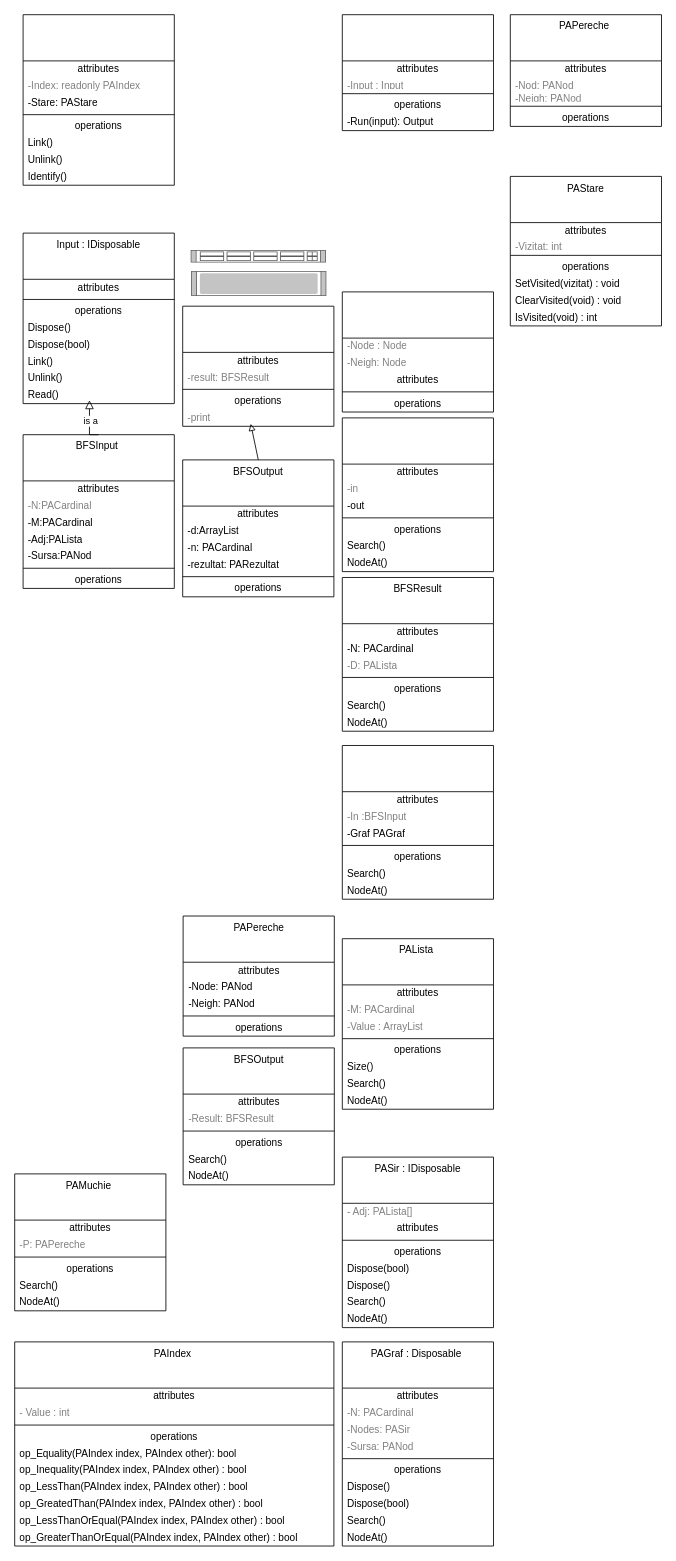
Image size: 676x1561. Some labels were removed from this diagram. The shapes that lost their labels are listed below. From the top down, each one's box as (x1, y1, x2, y2) in pixels, then its label:
(341, 14, 494, 131): Algorithm
(22, 14, 174, 185): PANod
(182, 305, 334, 426): Output
(341, 291, 494, 412): Edge
(341, 417, 494, 572): Graph
(341, 745, 494, 899): BFSAlgorithm
